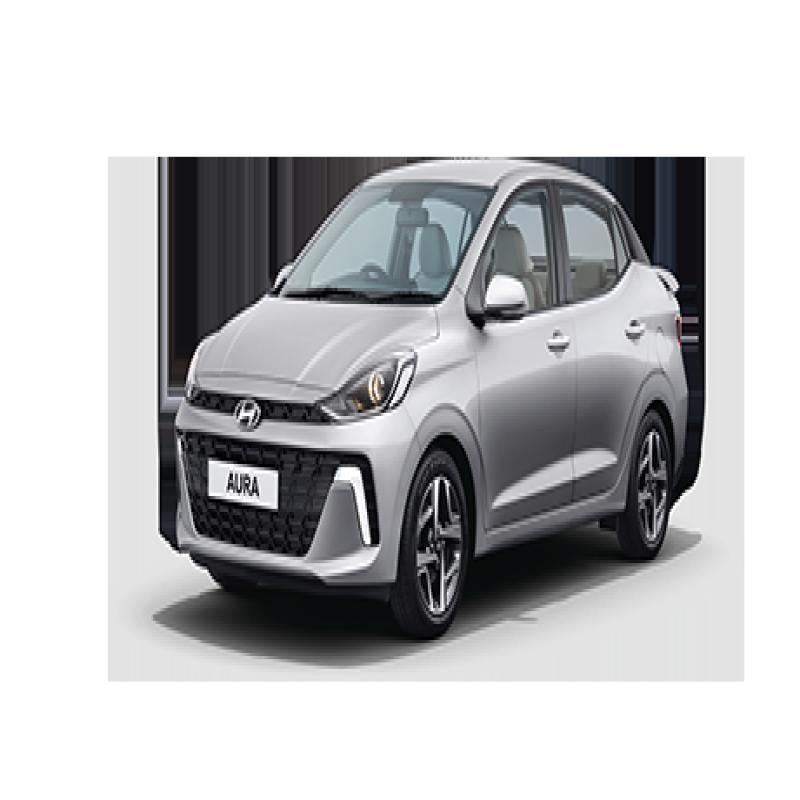car: (131, 103, 693, 633)
